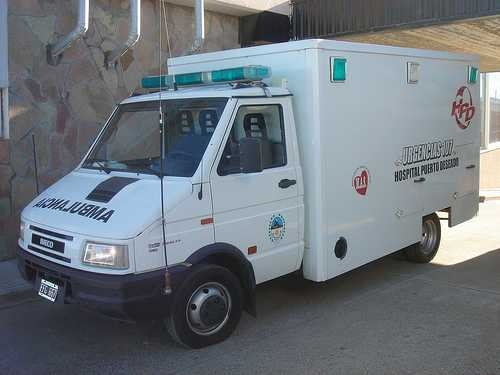Ambulance: (35, 47, 491, 354)
